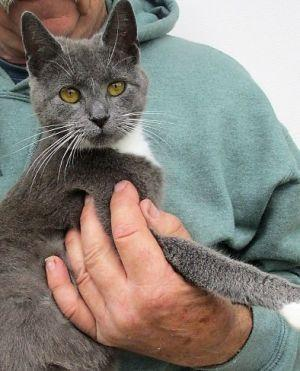rblue: (11, 1, 154, 152)
